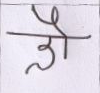ai_matra: (32, 6, 71, 36)
